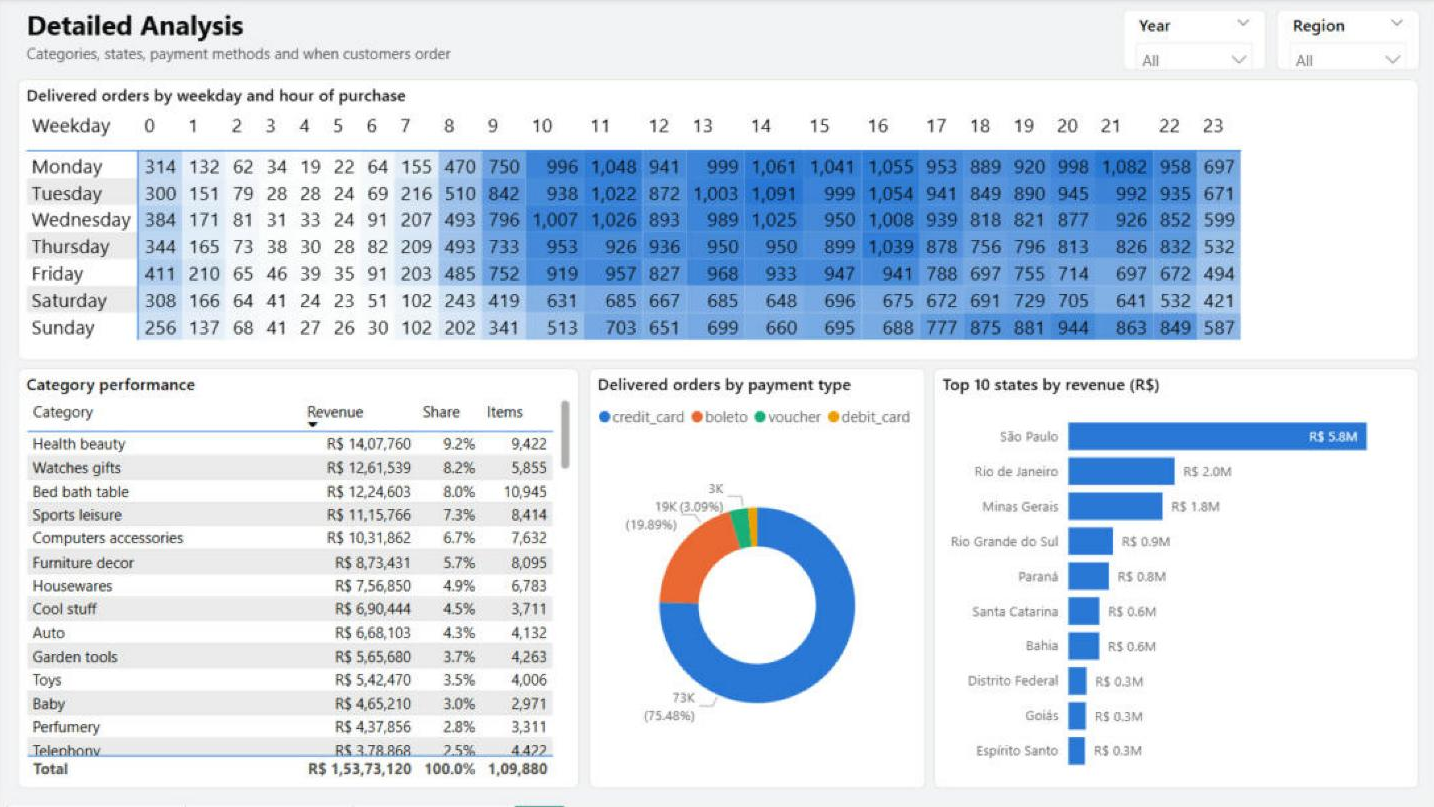

What the dashboard file says about the page in this screenshot:
{"tool":"powerbi","page":{"name":"Detailed Analysis","canvas":[1280,720],"ordinal":1},"visuals":[{"type":"textbox","box":[16,8,976,56],"z":1000},{"type":"slicer","fields":{"Values":["Date.Year"]},"box":[1000,10,128,54],"z":2000},{"type":"slicer","fields":{"Values":["dim_state.region"]},"box":[1136,10,128,54],"z":3000},{"type":"tableEx","title":"Category performance","fields":{"Values":["fact_order_items.category","_Measures.Item Revenue","_Measures.Category Revenue Share %","_Measures.Items Sold"]},"box":[16,330,500,374],"z":4000},{"type":"pivotTable","title":"Delivered orders by weekday and hour of purchase","fields":{"Columns":["fact_orders.purchase_hour"],"Rows":["fact_orders.purchase_weekday"],"Values":["_Measures.Delivered Orders"]},"box":[16,72,1248,250],"z":5000},{"type":"donutChart","title":"Delivered orders by payment type","fields":{"Category":["fact_orders.primary_payment_type"],"Y":["_Measures.Delivered Orders"]},"box":[524,330,300,374],"z":6000},{"type":"clusteredBarChart","title":"Top 10 states by revenue (R$)","fields":{"Category":["dim_state.state_name"],"Y":["_Measures.Revenue (Top 10 States)"]},"box":[832,330,432,374],"z":7000}]}

Visuals, with their boxes in screenshot pixels (x1, y1, x2, y2), scaled from the page's 1280x720 canvas onto the 1434x807 screenshot:
textbox: bbox(18, 9, 1111, 72)
slicer - Date.Year: bbox(1120, 11, 1264, 72)
slicer - dim_state.region: bbox(1273, 11, 1416, 72)
"Category performance" tableEx: bbox(18, 370, 578, 789)
"Delivered orders by weekday and hour of purchase" pivotTable: bbox(18, 81, 1416, 361)
"Delivered orders by payment type" donutChart: bbox(587, 370, 923, 789)
"Top 10 states by revenue (R$)" clusteredBarChart: bbox(932, 370, 1416, 789)
